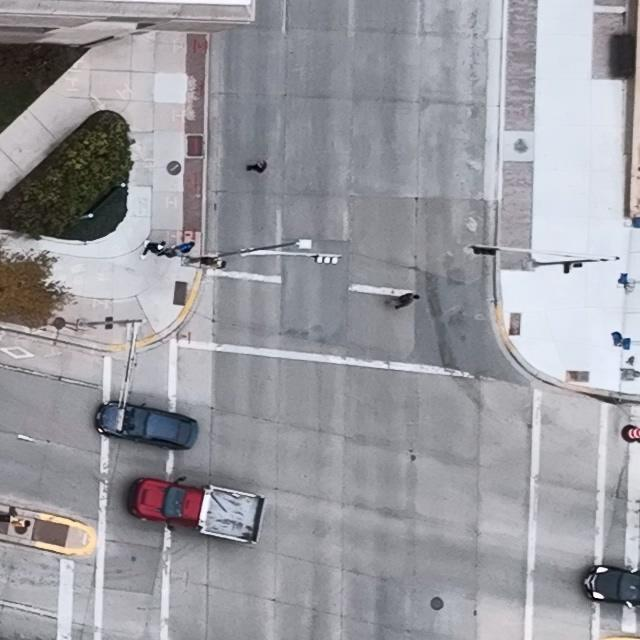car: (128, 475, 267, 545), (95, 401, 198, 450), (583, 565, 640, 609)
